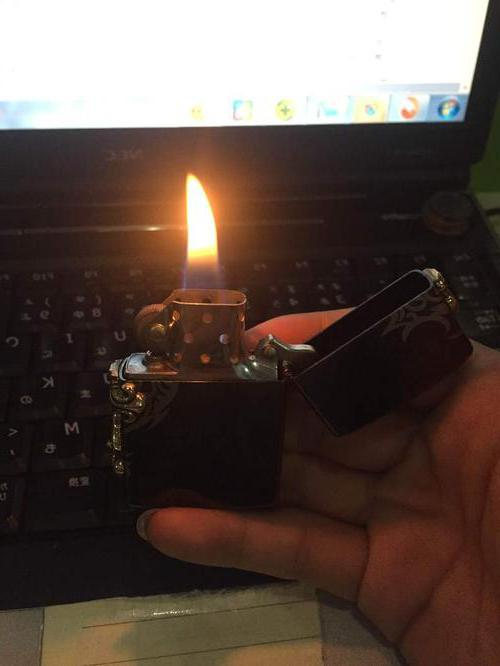fire: (171, 159, 241, 325)
